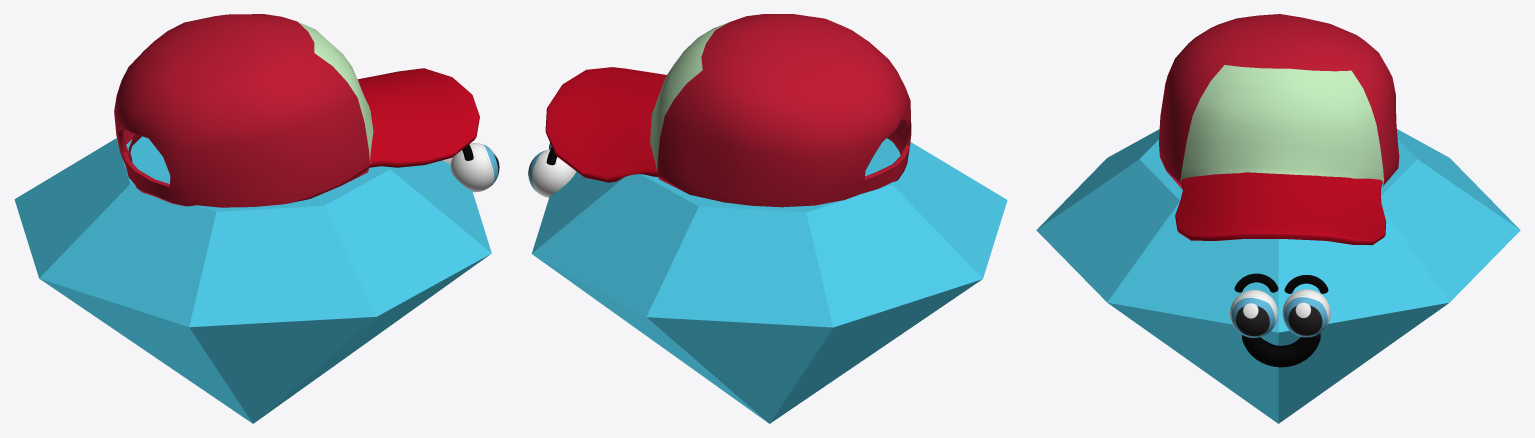
File: diamantegorra.glb
The picture shows the model from 3 angles, left to right: view 1: azimuth 30°, elevation 25°; view 2: azimuth 150°, elevation 25°; view 3: azimuth 270°, elevation 25°; orthographic projection. The views are drawn at different scales.
Parts seen in each view (by area): view 1: SimpleDia, polySurface2, polySurface3, Sphere; view 2: SimpleDia, polySurface2, polySurface3, Sphere.001; view 3: SimpleDia, polySurface2, polySurface3, Sphere.001, Sphere, Circle.001, Circle, Circle.002.
Part boxes in pixels (box(x1,y1,x2,y2)): SimpleDia: box(14, 136, 491, 423); polySurface2: box(114, 14, 373, 207); polySurface3: box(357, 68, 479, 167); Sphere: box(450, 143, 499, 192); SimpleDia: box(531, 138, 1007, 423); polySurface2: box(650, 14, 911, 207); polySurface3: box(545, 67, 666, 182); Sphere.001: box(528, 149, 576, 197); SimpleDia: box(1036, 129, 1520, 423); polySurface2: box(1159, 14, 1399, 188); polySurface3: box(1175, 172, 1386, 245); Sphere.001: box(1282, 289, 1330, 337); Sphere: box(1230, 290, 1277, 337); Circle.001: box(1242, 333, 1320, 367); Circle: box(1234, 273, 1278, 292); Circle.002: box(1284, 275, 1328, 293).
Size of the model in its own units: 1.19 by 1.01 by 1.15.
Materials: 8 (1 with a texture image).
